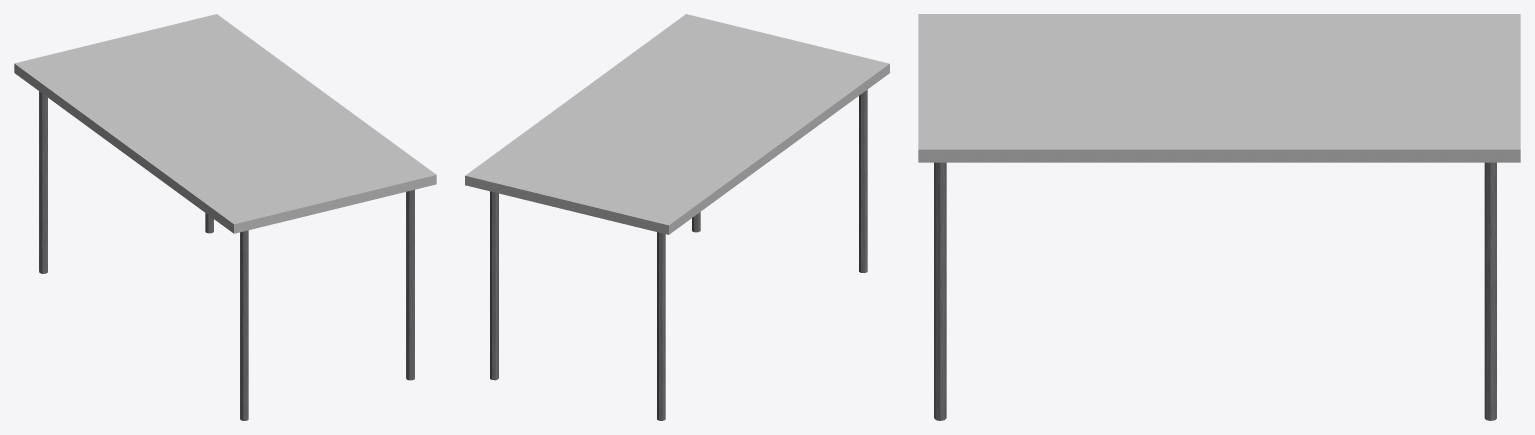
Rendered from Esstisch.obj.
The picture shows the model from 3 angles, left to right: view 1: azimuth 30°, elevation 25°; view 2: azimuth 150°, elevation 25°; view 3: azimuth 270°, elevation 25°; orthographic projection. The views are drawn at different scales.
Visible parts, largest first — view 1: Cube_Cube.001, Cube.002_Cube.003; view 2: Cube_Cube.001, Cube.002_Cube.003; view 3: Cube_Cube.001, Cube.002_Cube.003.
Part boxes in pixels (x1,y1,x2,y2): Cube_Cube.001: (14,14,436,233); Cube.002_Cube.003: (39,91,414,420); Cube_Cube.001: (465,14,889,234); Cube.002_Cube.003: (490,90,867,420); Cube_Cube.001: (918,14,1520,162); Cube.002_Cube.003: (934,162,1496,420).
Size of the model in its own units: 2 by 1.93 by 3.76.
